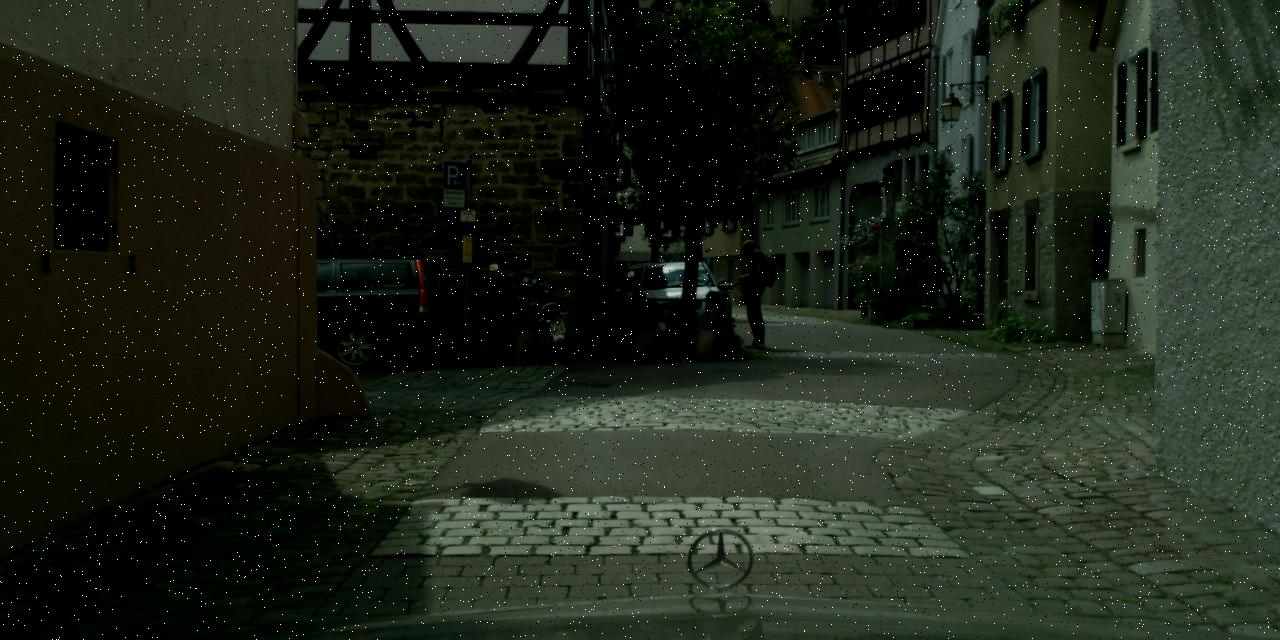ped: (730, 238, 774, 346)
